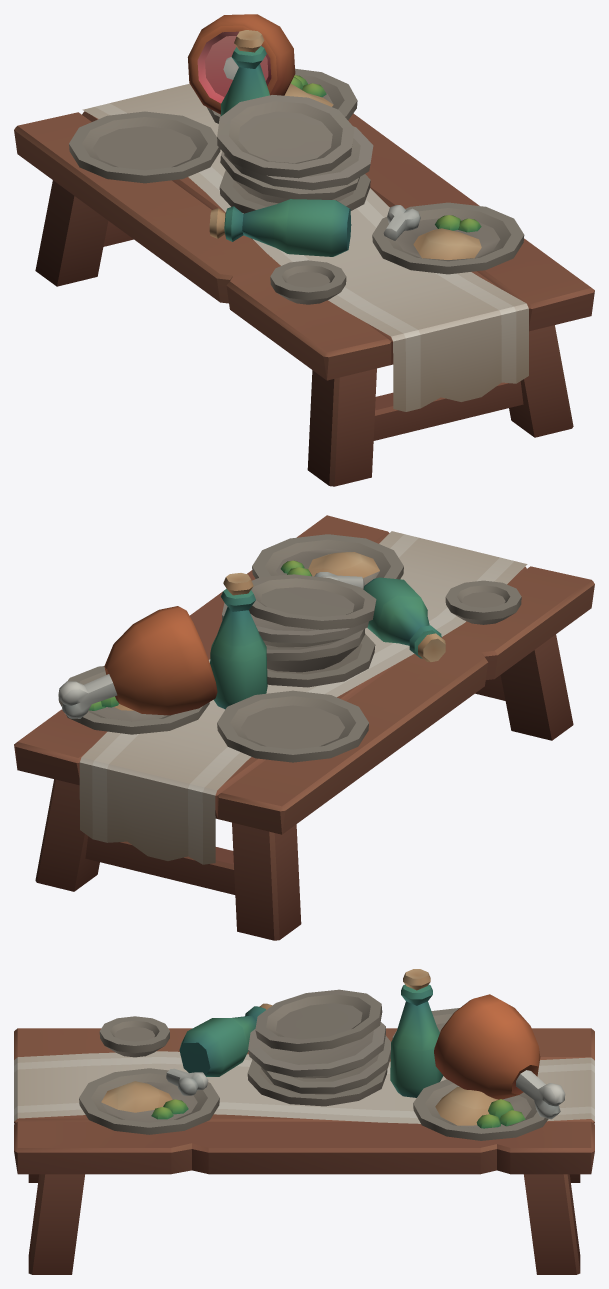
The model's file is table-long-tablecloth-decorated-a.glb.
The picture shows the model from 3 angles, top to bottom: view 1: azimuth 30°, elevation 25°; view 2: azimuth 150°, elevation 25°; view 3: azimuth 270°, elevation 25°; orthographic projection. The views are drawn at different scales.
Visible parts, largest first — view 1: table-long-tablecloth-decorated-a; view 2: table-long-tablecloth-decorated-a; view 3: table-long-tablecloth-decorated-a.
Part boxes in pixels (x1,y1,x2,y2): table-long-tablecloth-decorated-a: (14, 14, 594, 486); table-long-tablecloth-decorated-a: (14, 515, 594, 940); table-long-tablecloth-decorated-a: (14, 969, 594, 1274).
Bounding box in the file's own units: 1.58 × 1.45 × 3.08.
